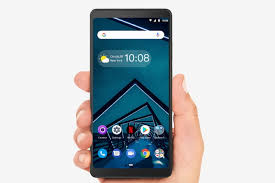lenovo: (85, 6, 176, 181)
